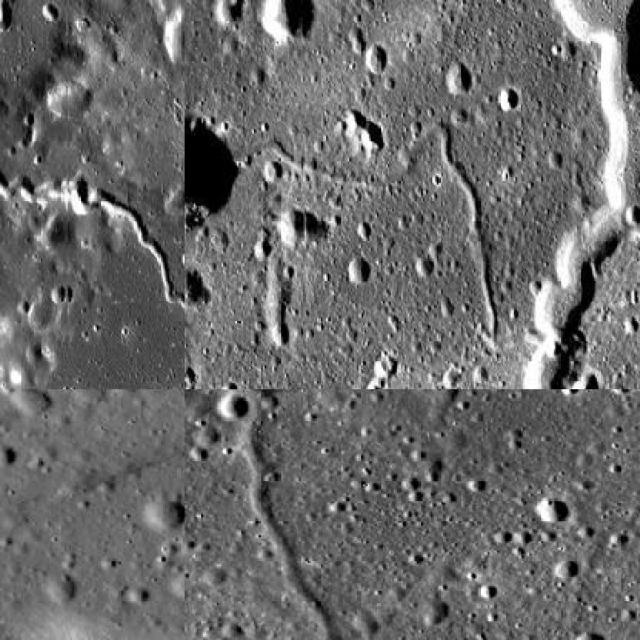rille: (0, 0, 183, 388), (232, 120, 500, 349), (520, 0, 638, 388), (237, 390, 408, 638)
